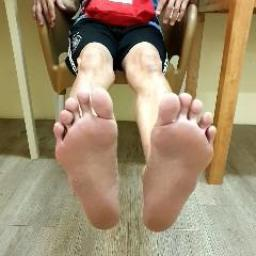Plantar View -Both Feet-: (31, 66, 239, 248)
